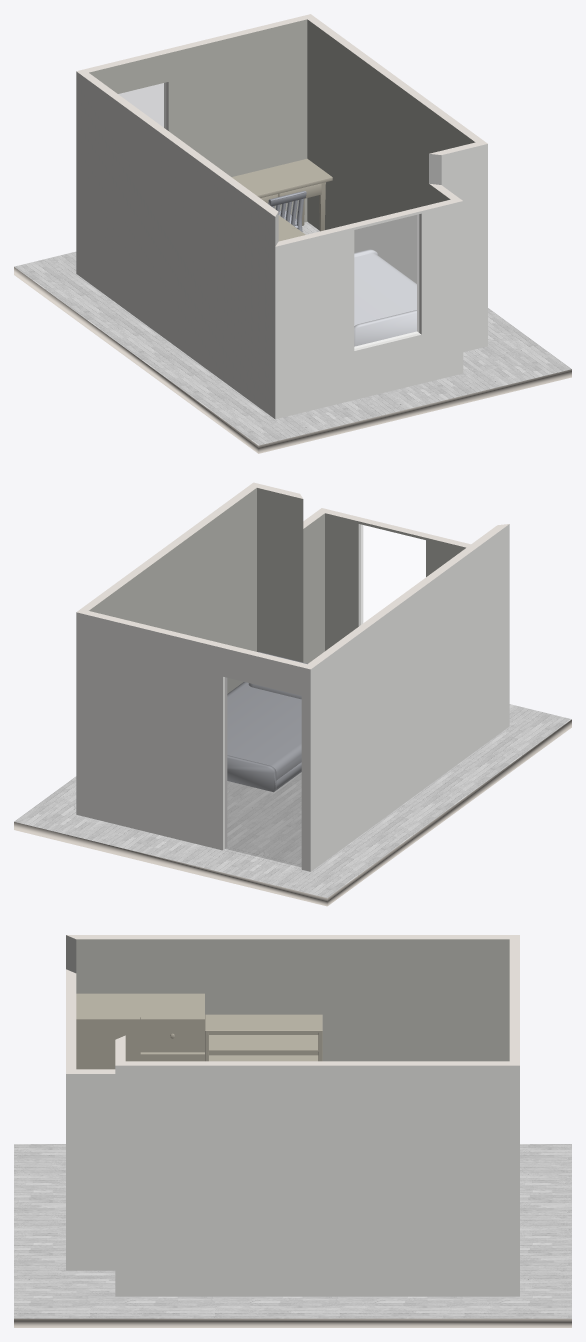
The model's file is polytech_2_main.gltf.
The picture shows the model from 3 angles, top to bottom: view 1: azimuth 30°, elevation 25°; view 2: azimuth 150°, elevation 25°; view 3: azimuth 270°, elevation 25°; orthographic projection. The views are drawn at different scales.
Visible parts, largest first — view 1: wall_0, wall_3, floor_0, wall_1, wall_2, window_0, wall_4, object_1, object_0, door_0, object_5; view 2: wall_0, wall_2, floor_0, wall_1, door_0, wall_4, object_1, wall_3, window_0, wall_5; view 3: wall_1, wall_0, floor_0, wall_5, object_4, object_3, wall_2, wall_3.
Part boxes in pixels (box(x1,y1,x2,y2)): wall_0: box(76, 71, 278, 418); wall_3: box(275, 199, 463, 419); floor_0: box(14, 221, 571, 453); wall_1: box(307, 14, 487, 283); wall_2: box(77, 14, 310, 222); window_0: box(354, 214, 418, 348); wall_4: box(429, 142, 487, 352); object_1: box(354, 249, 416, 346); object_0: box(232, 158, 332, 231); door_0: box(118, 82, 165, 128); object_5: box(268, 191, 306, 231); wall_0: box(307, 524, 509, 871); wall_2: box(76, 611, 310, 871); floor_0: box(14, 704, 571, 906); wall_1: box(76, 482, 256, 693); door_0: box(225, 677, 301, 866); wall_4: box(254, 482, 303, 662); object_1: box(227, 651, 307, 791); wall_3: box(322, 508, 470, 650); window_0: box(361, 524, 425, 624); wall_5: box(303, 508, 324, 663); wall_1: box(115, 1061, 519, 1296); wall_0: box(66, 935, 519, 1061); floor_0: box(14, 1144, 571, 1327); wall_5: box(66, 1069, 115, 1270); object_4: box(76, 993, 204, 1069); object_3: box(205, 1014, 322, 1061); wall_2: box(509, 935, 519, 1065); wall_3: box(66, 969, 76, 1073).
Size of the model in its own units: 3.97 by 2.55 by 5.37.
Materials: 34 (1 with a texture image).
